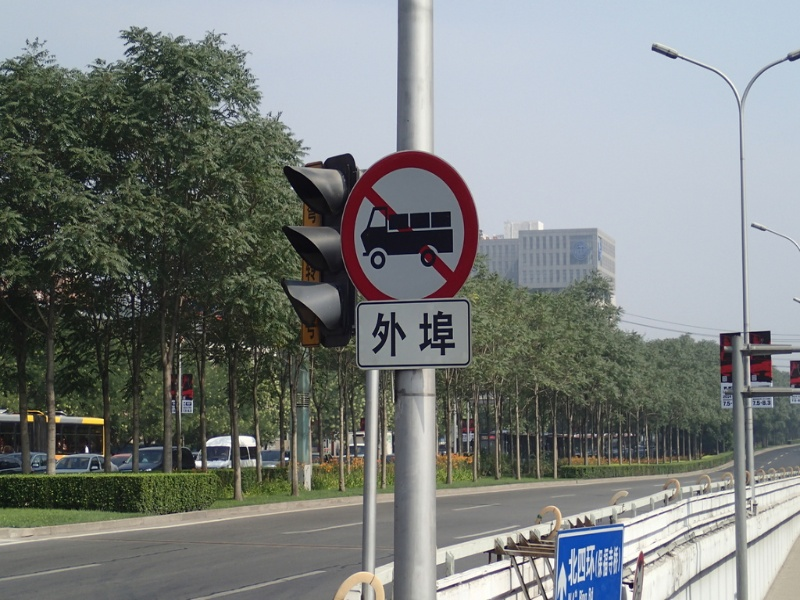no_truck: (342, 158, 505, 323)
